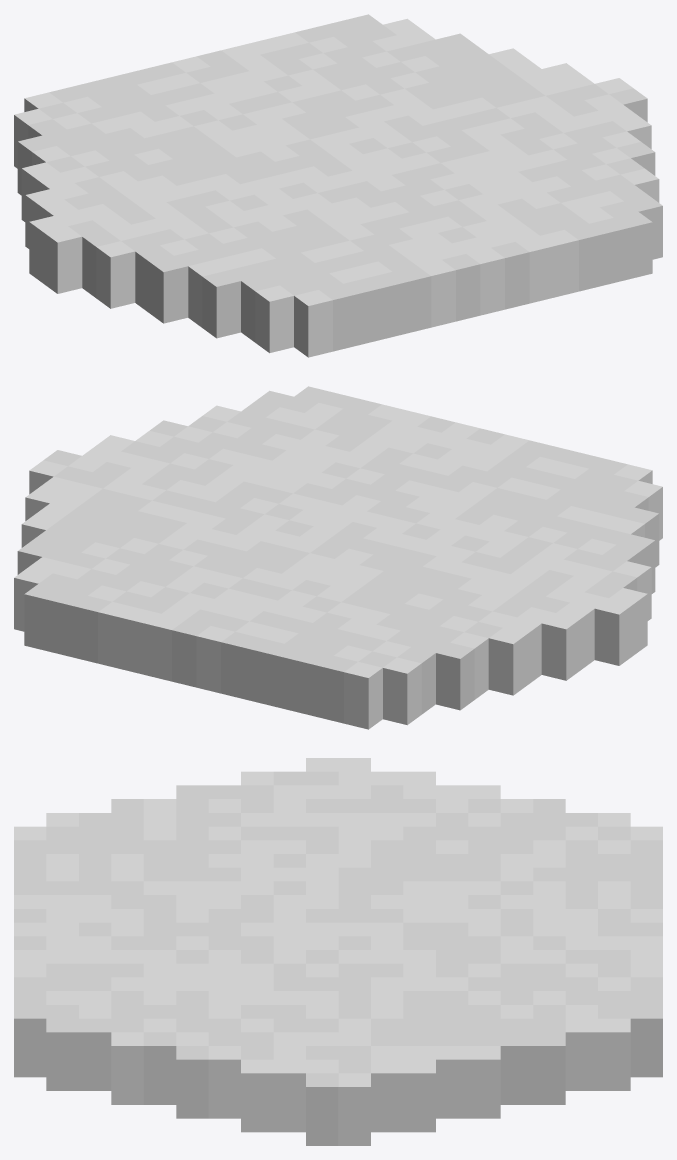
File: overworld-12-snow_2px.obj
3 renders of one model, top to bottom at view 1: azimuth 30°, elevation 25°; view 2: azimuth 150°, elevation 25°; view 3: azimuth 270°, elevation 25°, orthographic. The views are drawn at different scales.
Parts seen in each view (by area): view 1: snow_2px; view 2: snow_2px; view 3: snow_2px.
Boxes of the visible parts, left/top/right/bottom form: snow_2px: left=14, top=14, right=662, bottom=357; snow_2px: left=14, top=386, right=662, bottom=729; snow_2px: left=14, top=758, right=662, bottom=1145.
Size of the model in its own units: 2.4 by 0.2 by 2.
Materials: 1 (1 with a texture image).
